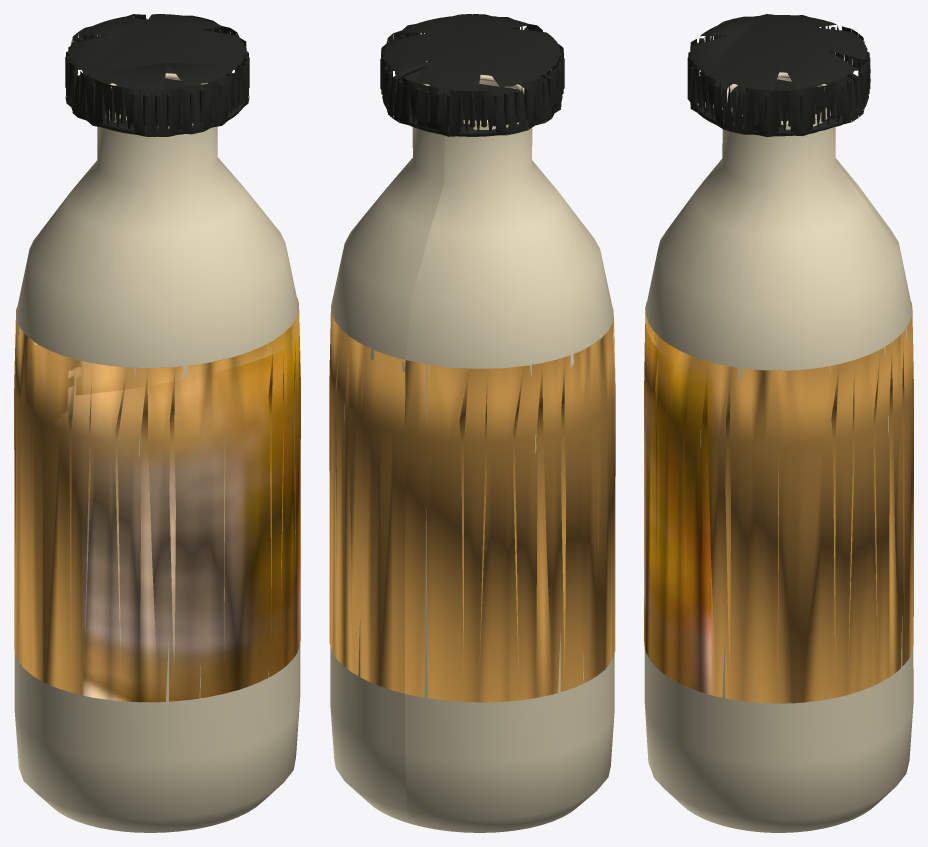
3 views of the same model, side by side, from view 1: azimuth 30°, elevation 25°; view 2: azimuth 150°, elevation 25°; view 3: azimuth 270°, elevation 25° (orthographic).
Visible parts, largest first — view 1: profile-conforming printed label, thin shell with corrected shoulder, removable closure; view 2: profile-conforming printed label, thin shell with corrected shoulder, removable closure, closure lower bead; view 3: profile-conforming printed label, thin shell with corrected shoulder, removable closure, closure lower bead.
Part boxes in pixels (left/top/right/bottom): profile-conforming printed label: left=14, top=297, right=300, bottom=702; thin shell with corrected shoulder: left=14, top=79, right=300, bottom=832; removable closure: left=65, top=14, right=249, bottom=136; profile-conforming printed label: left=329, top=302, right=615, bottom=702; thin shell with corrected shoulder: left=330, top=80, right=614, bottom=832; removable closure: left=381, top=14, right=563, bottom=136; closure lower bead: left=382, top=61, right=562, bottom=135; profile-conforming printed label: left=644, top=301, right=913, bottom=703; thin shell with corrected shoulder: left=644, top=76, right=913, bottom=832; removable closure: left=687, top=14, right=870, bottom=136; closure lower bead: left=689, top=73, right=868, bottom=135.
Bounding box in the file's own units: 0.0672 × 0.1896 × 0.0624.
Materials: 4 (1 with a texture image).
